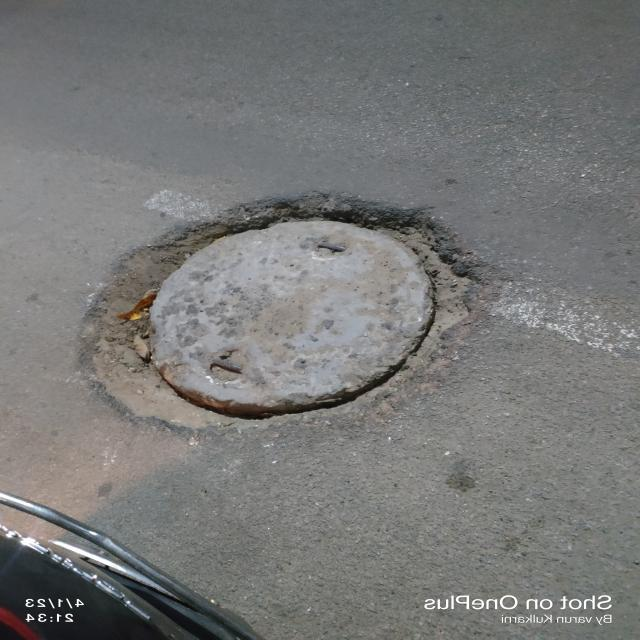manhole: (78, 191, 496, 440)
